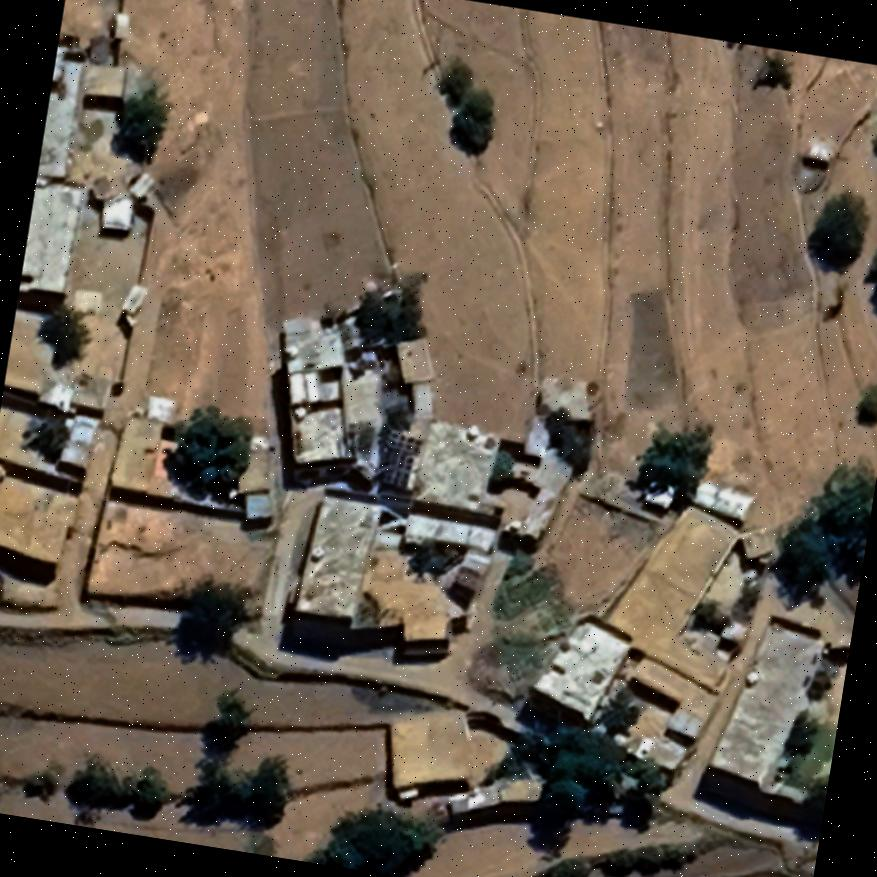Solarpanel: (370, 424, 424, 496)
